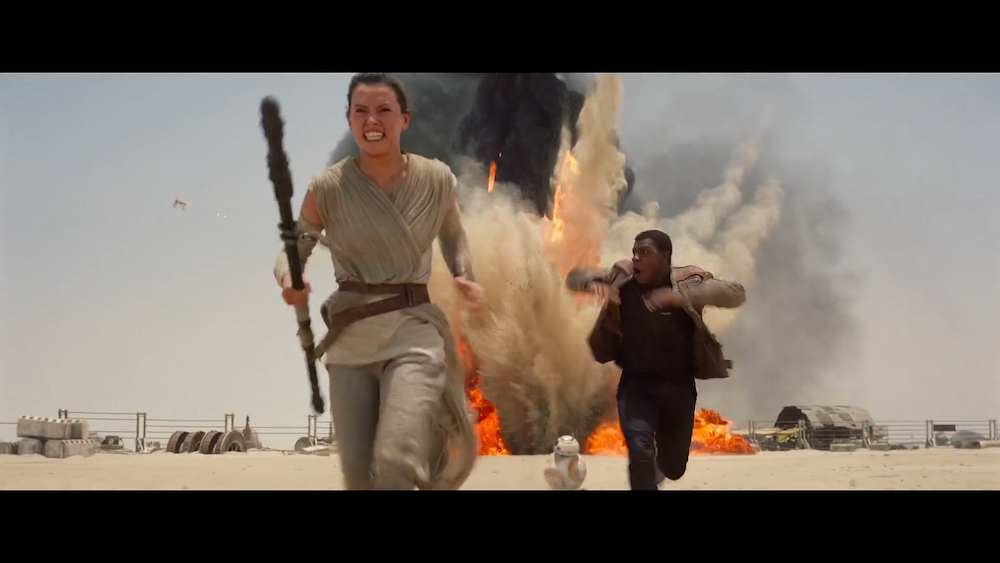Tie Fighter: (174, 197, 189, 212)
